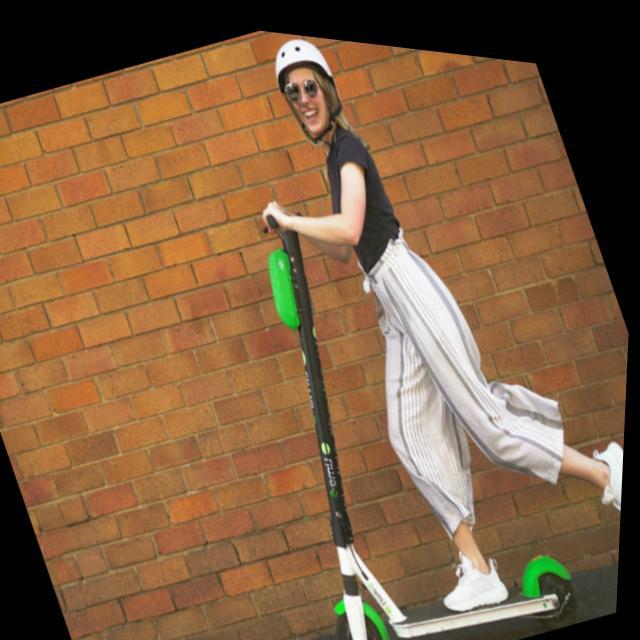Helmet: (270, 36, 348, 143)
